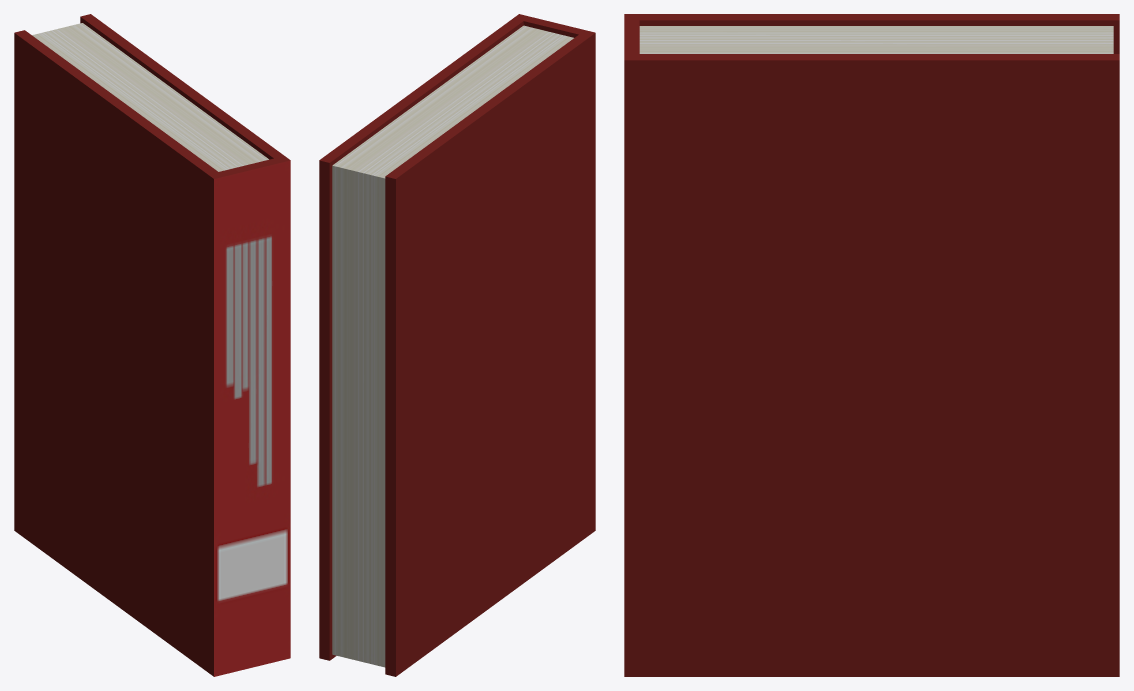
File: BOOK004.fbx
3 renders of one model, left to right at view 1: azimuth 30°, elevation 25°; view 2: azimuth 150°, elevation 25°; view 3: azimuth 270°, elevation 25°, orthographic. The views are drawn at different scales.
Visible parts, largest first — view 1: BOOK004; view 2: BOOK004; view 3: BOOK004.
Boxes of the visible parts, <box> form: BOOK004: <box>14,14,290,676</box>; BOOK004: <box>319,14,595,676</box>; BOOK004: <box>624,14,1119,676</box>.
Size of the model in its own units: 3.61 by 22.39 by 16.3.
